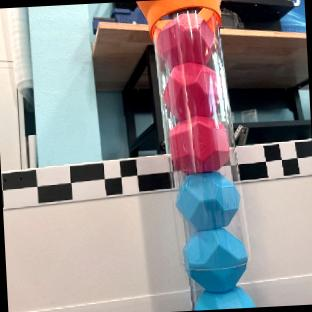V5_BLUE: (179, 223, 247, 297), (175, 170, 239, 228), (195, 286, 254, 310)
V5_RED: (162, 55, 225, 119), (168, 116, 230, 172), (156, 11, 214, 69)
